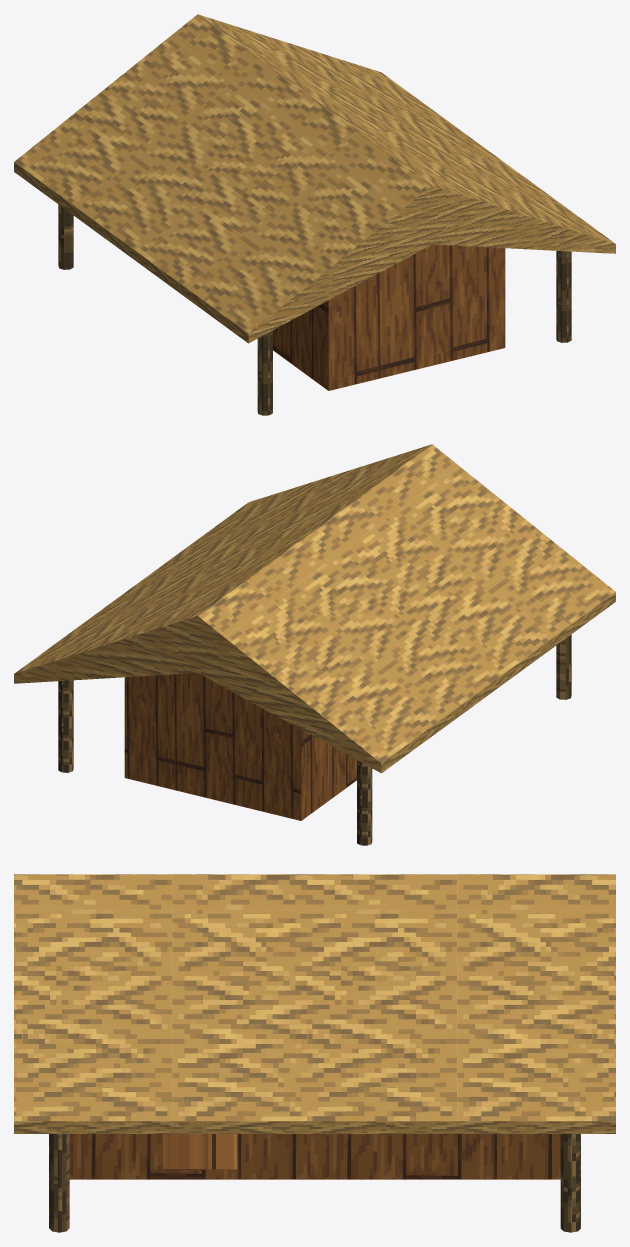
File: Cabana-chat.fbx
The picture shows the model from 3 angles, top to bottom: view 1: azimuth 30°, elevation 25°; view 2: azimuth 150°, elevation 25°; view 3: azimuth 270°, elevation 25°; orthographic projection. The views are drawn at different scales.
Parts seen in each view (by area): view 1: Telhado, Cabana, Pilares; view 2: Telhado, Cabana, Pilares; view 3: Telhado, Cabana, Pilares.
Boxes of the visible parts, bbox=[...] form: Telhado: bbox=[14, 14, 615, 343]; Cabana: bbox=[273, 244, 505, 390]; Pilares: bbox=[58, 204, 571, 415]; Telhado: bbox=[14, 444, 615, 773]; Cabana: bbox=[124, 673, 356, 820]; Pilares: bbox=[58, 634, 571, 845]; Telhado: bbox=[14, 874, 615, 1133]; Cabana: bbox=[69, 1134, 560, 1179]; Pilares: bbox=[49, 1134, 580, 1232].
Size of the model in its own units: 416 by 220 by 460.
Materials: 3 (3 with a texture image).
